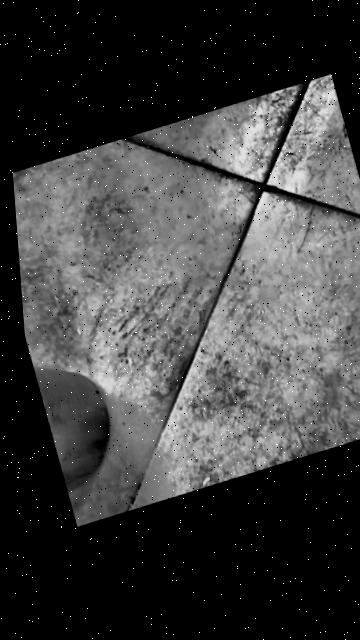pot: (24, 314, 129, 510)
